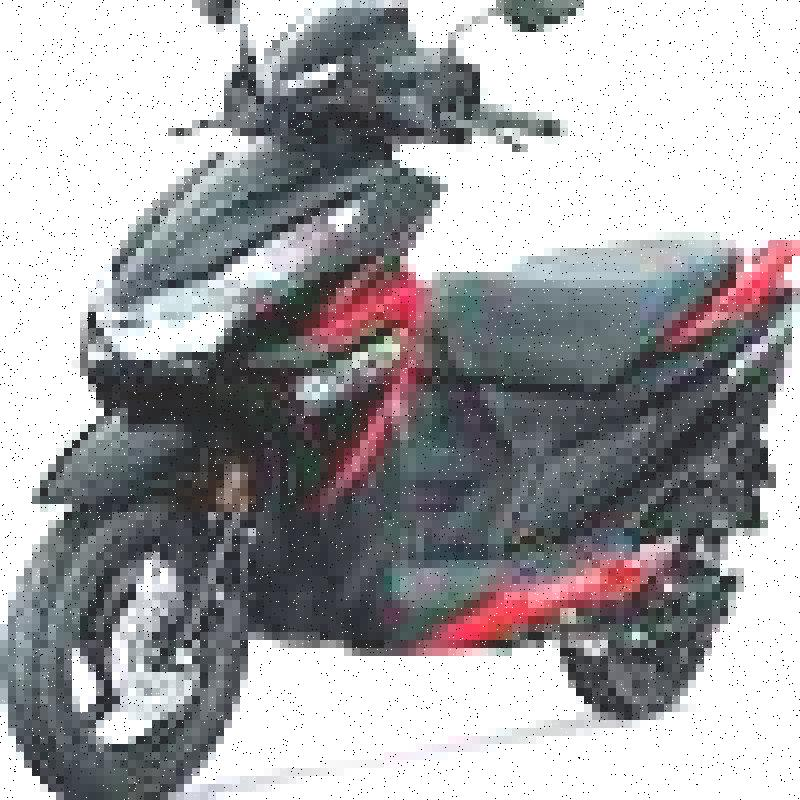bike: (5, 0, 800, 792)
